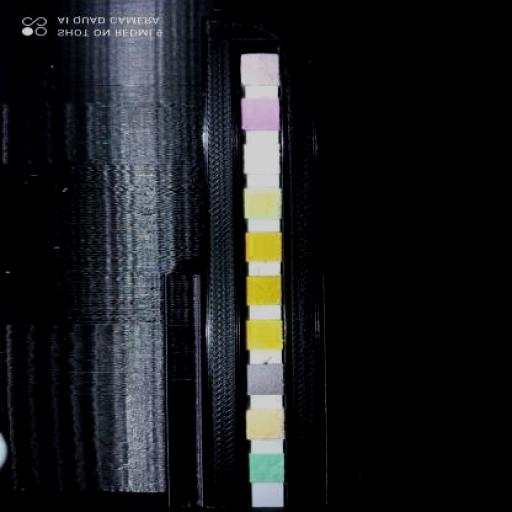Bilirubin: (247, 411, 284, 439)
Blood: (247, 277, 281, 305)
Glucose: (250, 454, 284, 482)
Ketone: (248, 364, 282, 394)
Leukocytes: (242, 54, 278, 84)
Nitrite: (242, 100, 278, 130)
Protein: (245, 190, 281, 218)
SpGravity: (248, 320, 282, 350)
Urobilinogen: (244, 144, 278, 174)
pH: (246, 232, 280, 260)
strip: (245, 52, 284, 506)
